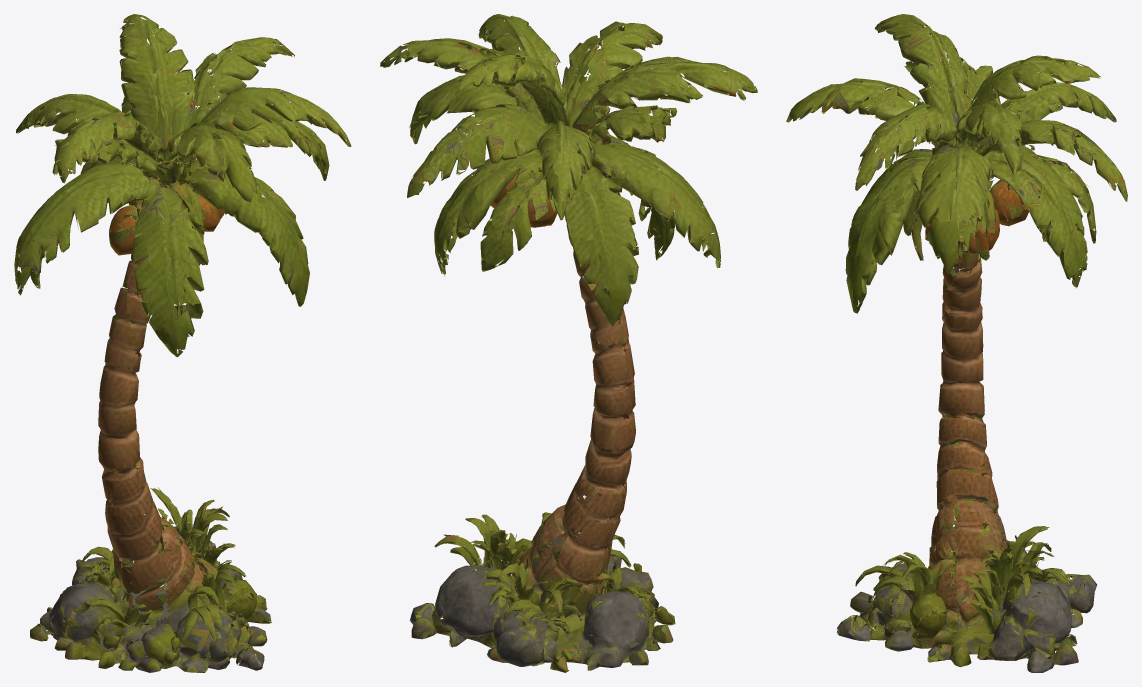
Rendered from palm.glb.
The picture shows the model from 3 angles, left to right: view 1: azimuth 30°, elevation 25°; view 2: azimuth 150°, elevation 25°; view 3: azimuth 270°, elevation 25°; orthographic projection. The views are drawn at different scales.
Bounding box in the file's own units: 1.06 × 1.9 × 1.03.
Materials: 1 (1 with a texture image).
